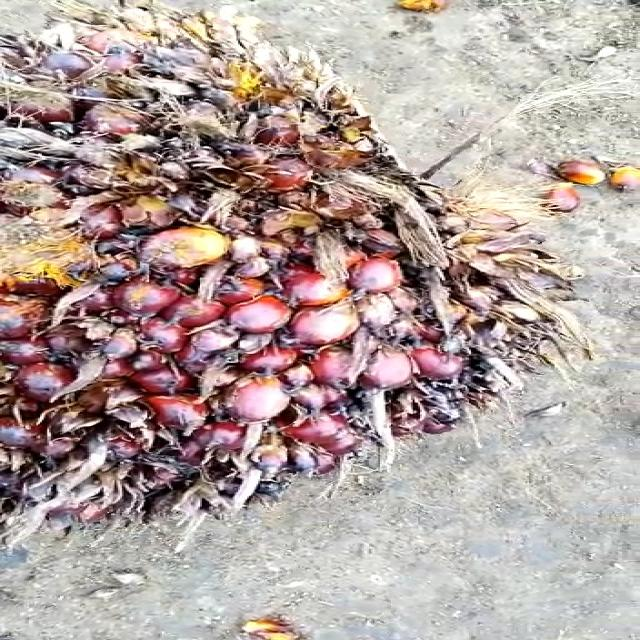palm oil: (0, 6, 548, 579)
